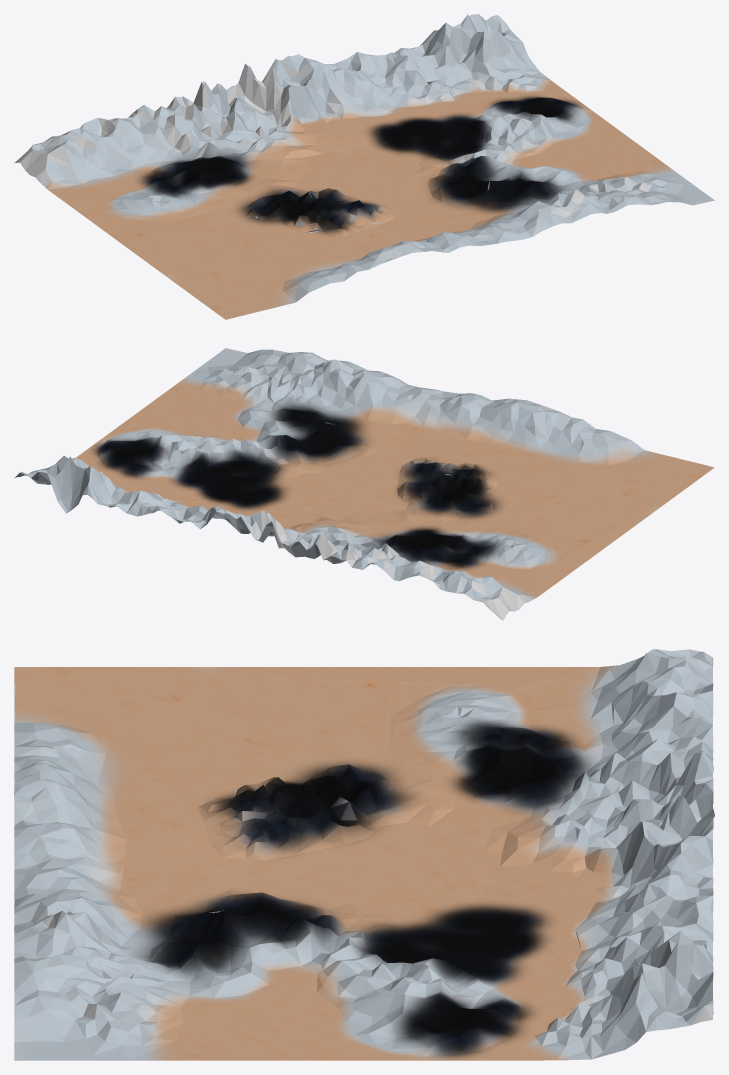
3 renders of one model, top to bottom at view 1: azimuth 30°, elevation 25°; view 2: azimuth 150°, elevation 25°; view 3: azimuth 270°, elevation 25°, orthographic. The views are drawn at different scales.
Parts seen in each view (by area): view 1: Parasitic_Lvl6.1; view 2: Parasitic_Lvl6.1; view 3: Parasitic_Lvl6.1.
Part boxes in pixels (x1,y1,x2,y2): Parasitic_Lvl6.1: (14, 14, 714, 319); Parasitic_Lvl6.1: (15, 348, 714, 620); Parasitic_Lvl6.1: (14, 649, 714, 1060).
Size of the model in its own units: 10001 by 1005 by 7524.
